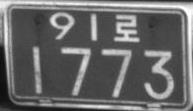1: (25, 46, 53, 93), (82, 13, 106, 40)
3: (143, 48, 174, 100)
7: (101, 47, 132, 98), (61, 46, 91, 95)
9: (49, 11, 74, 39)
로: (113, 13, 139, 42)
